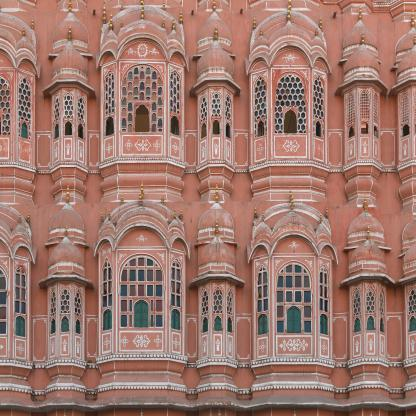Building Outline: (0, 0, 416, 416)
Cornice: (93, 181, 191, 260), (246, 187, 338, 266), (96, 0, 189, 73), (244, 0, 332, 76), (38, 184, 95, 289), (338, 194, 396, 289), (190, 183, 245, 283), (42, 0, 96, 99), (189, 0, 241, 92), (335, 5, 388, 95), (0, 12, 41, 79), (388, 9, 416, 96), (0, 203, 37, 265), (397, 217, 416, 283)
Facade: (0, 0, 416, 416)
Floor: (0, 189, 416, 383), (0, 0, 416, 181)
Floor Slab: (0, 383, 416, 392), (0, 181, 416, 189)
Window: (118, 254, 165, 328), (120, 64, 164, 132), (275, 261, 314, 334), (273, 71, 308, 134), (18, 76, 32, 141), (253, 75, 267, 139), (313, 75, 325, 138), (0, 76, 11, 135), (255, 265, 268, 313), (170, 258, 182, 308), (101, 257, 112, 308), (170, 70, 182, 115), (15, 267, 26, 315), (103, 71, 115, 115), (319, 265, 330, 313), (359, 89, 370, 135), (0, 268, 7, 335), (346, 93, 356, 139), (400, 93, 410, 138), (59, 286, 71, 314), (365, 285, 376, 313), (212, 287, 223, 313), (373, 93, 379, 140), (63, 93, 74, 118), (211, 91, 222, 116), (352, 288, 361, 317), (74, 289, 83, 317), (407, 287, 416, 315), (15, 316, 26, 337), (257, 314, 268, 335), (102, 309, 112, 331), (171, 309, 181, 331), (200, 289, 208, 316), (49, 287, 56, 317), (199, 96, 207, 122), (77, 98, 85, 123), (53, 95, 60, 123), (227, 289, 234, 316), (225, 95, 232, 121), (105, 116, 114, 136), (170, 116, 179, 136), (320, 313, 328, 335), (379, 288, 385, 316), (413, 92, 416, 135), (61, 316, 69, 332), (212, 120, 220, 135), (214, 316, 222, 331), (367, 316, 375, 331), (409, 316, 416, 333), (354, 317, 361, 333), (65, 121, 72, 136), (78, 123, 84, 140), (75, 319, 81, 335), (202, 317, 208, 333), (54, 123, 59, 140), (51, 318, 56, 335), (201, 123, 206, 139), (226, 123, 231, 139), (227, 317, 232, 333), (380, 317, 384, 333)
